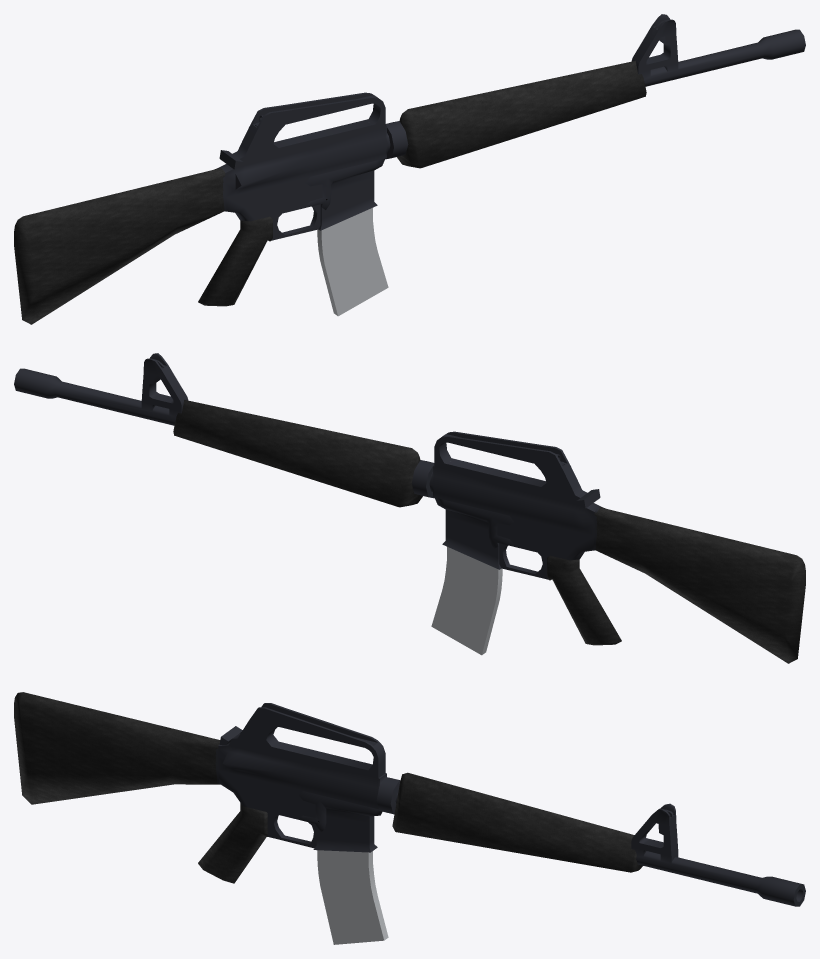
The picture shows the model from 3 angles, top to bottom: view 1: azimuth 30°, elevation 25°; view 2: azimuth 150°, elevation 25°; view 3: azimuth 330°, elevation 25°; orthographic projection.
Parts seen in each view (by area): view 1: Plane_0; view 2: Plane_0; view 3: Plane_0.
Part boxes in pixels (box(x1,y1,x2,y2)): Plane_0: box(14, 14, 805, 324); Plane_0: box(14, 353, 805, 663); Plane_0: box(14, 692, 805, 944).
Bounding box in the file's own units: 1.45 × 0.3909 × 0.0806.
Materials: 1 (1 with a texture image).
